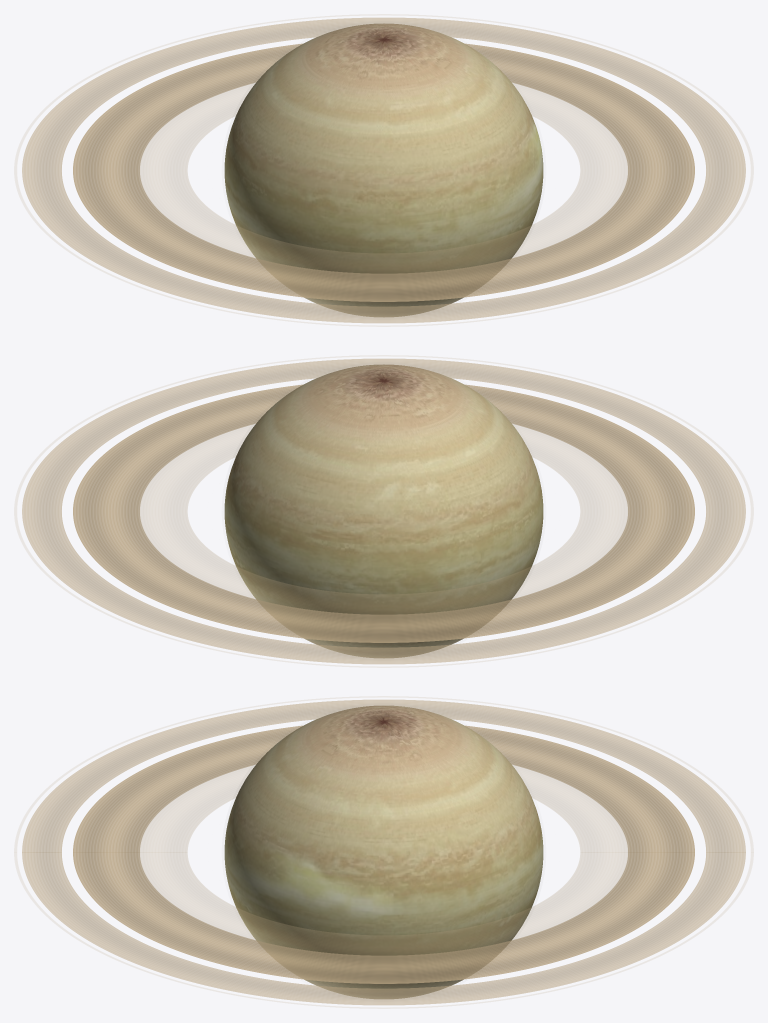
The model's file is saturn.glb.
3 views of the same model, one above another, from view 1: azimuth 30°, elevation 25°; view 2: azimuth 150°, elevation 25°; view 3: azimuth 270°, elevation 25° (orthographic).
Parts seen in each view (by area): view 1: SaturnRings, SaturnGlobe; view 2: SaturnRings, SaturnGlobe; view 3: SaturnRings, SaturnGlobe.
Boxes of the visible parts, bbox=[...] form: SaturnRings: bbox=[14, 14, 753, 326]; SaturnGlobe: bbox=[224, 23, 543, 317]; SaturnRings: bbox=[14, 355, 753, 667]; SaturnGlobe: bbox=[224, 364, 543, 658]; SaturnRings: bbox=[14, 696, 753, 1008]; SaturnGlobe: bbox=[224, 705, 543, 998].
Size of the model in its own units: 4.64 by 1.84 by 4.64.
Materials: 3 (2 with a texture image).
